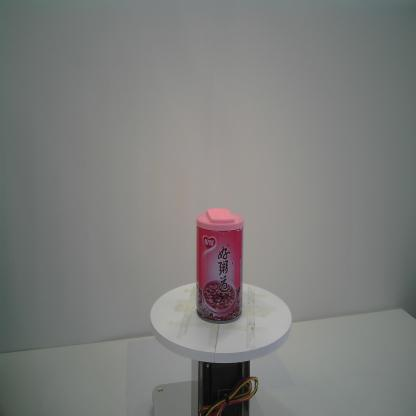Canned Food: (195, 208, 245, 326)
